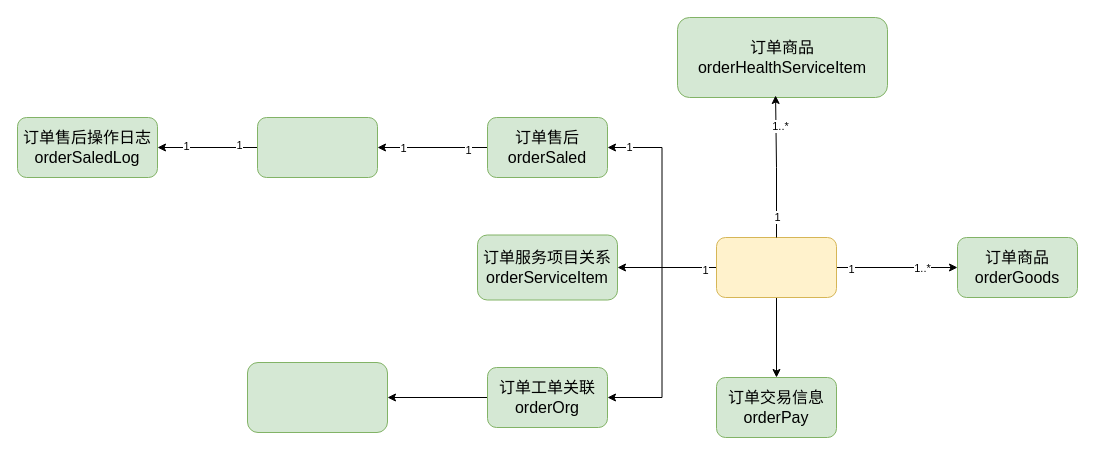
The diagram is 1095 pixels wide and 455 high, and some of its shapes have lost their labels. The box of each missing label's shape, as (x1, y1, x2, y2) in pixels:
订单 order: (716, 236, 836, 298)
订单售后附件 orderSaledFile: (256, 116, 378, 178)
订单工单详细 orderWorkOrder: (246, 362, 388, 432)
